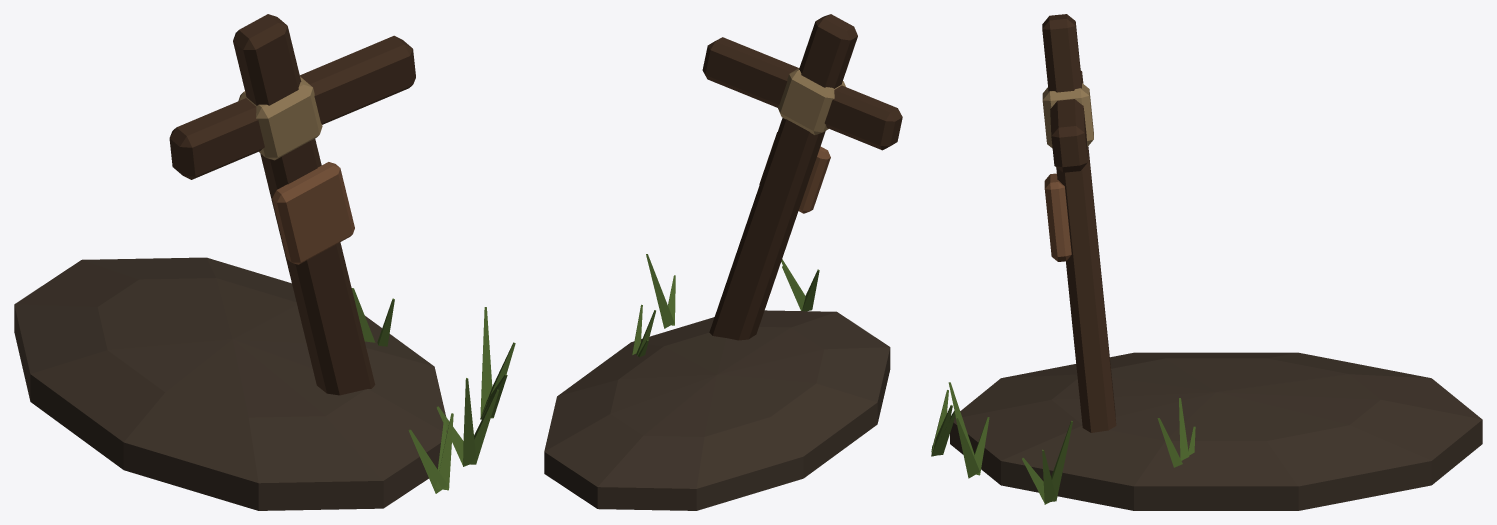
File: wood_cross.glb
3 renders of one model, left to right at view 1: azimuth 30°, elevation 25°; view 2: azimuth 150°, elevation 25°; view 3: azimuth 270°, elevation 25°, orthographic. The views are drawn at different scales.
Visible parts, largest first — view 1: WoodCross; view 2: WoodCross; view 3: WoodCross.
Part boxes in pixels (left/top/right/bottom): WoodCross: left=14, top=14, right=515, bottom=510; WoodCross: left=544, top=14, right=902, bottom=510; WoodCross: left=931, top=14, right=1482, bottom=510.
Bounding box in the file's own units: 0.5142 × 0.7073 × 0.819.
